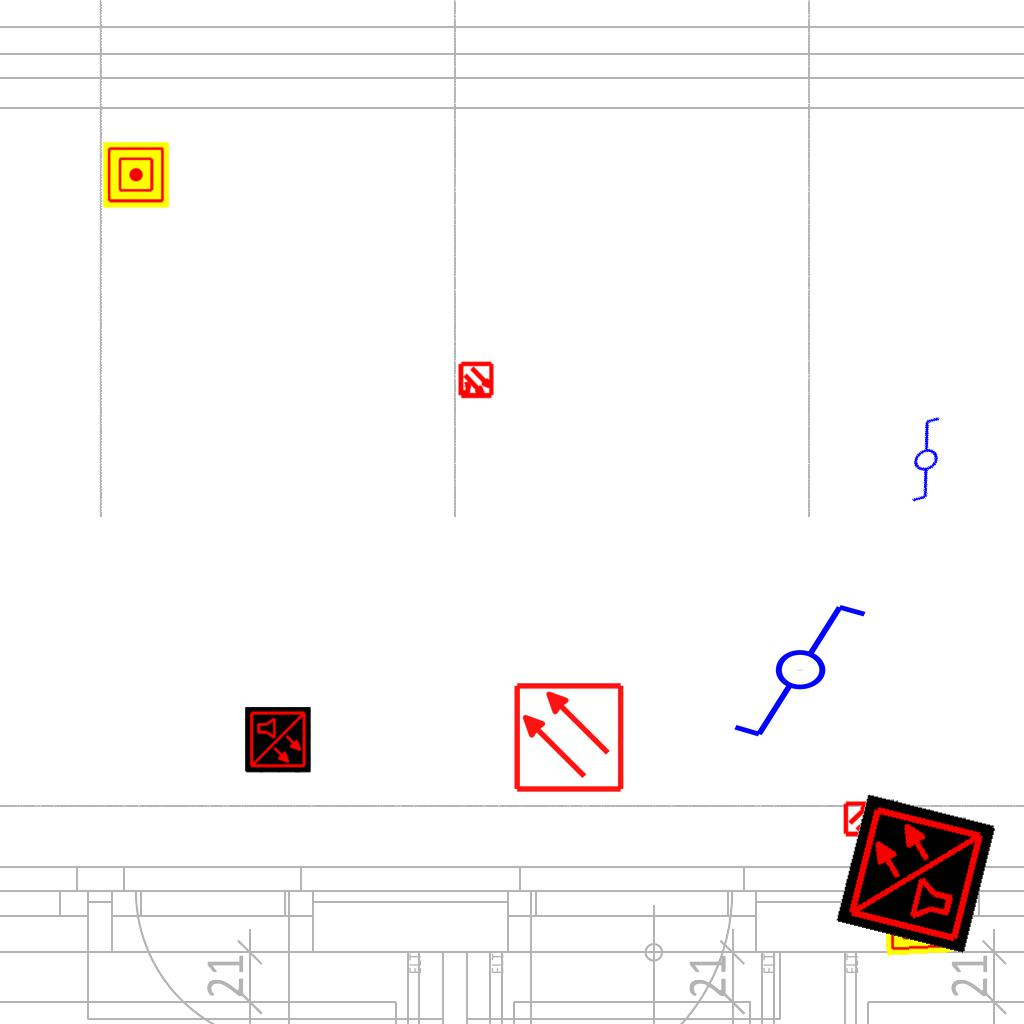NAM-Nichtautomatischer_Melder: (883, 886, 953, 956), (103, 142, 169, 208)
OKW_Multisensormelder_(Kombination_optischer_Rauch-Kahlenmonoxid_Waerme-Melder): (835, 792, 997, 954), (245, 707, 311, 773)
OT_Multisensormelder_(Kombination_RMO_WMD): (835, 791, 891, 847), (448, 353, 504, 409)
RMO_Rauchmelder_optischer: (512, 681, 625, 794)
Wechselschalter: (730, 600, 887, 744), (870, 410, 974, 512)
